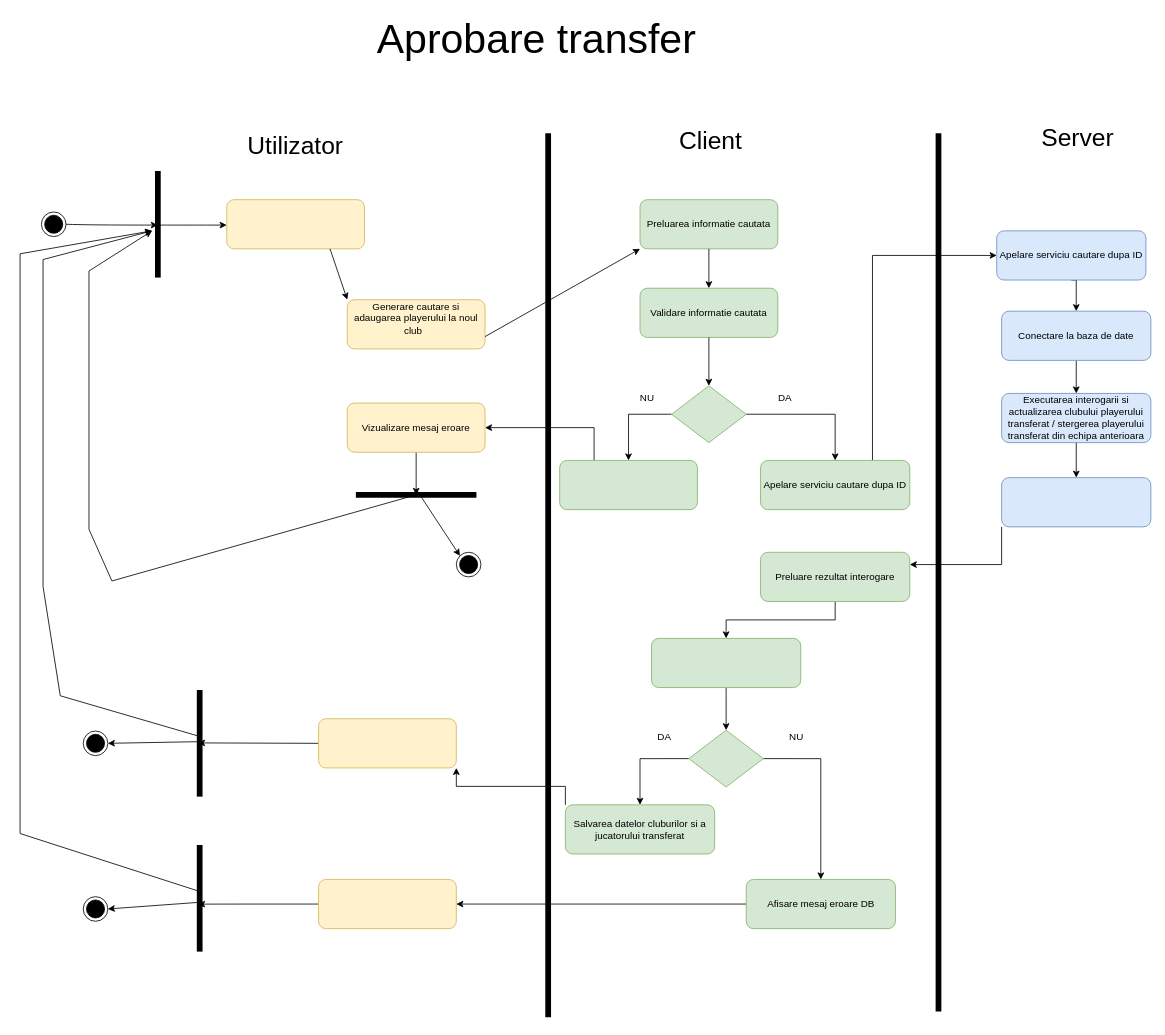
The diagram is 1165 pixels wide and 1035 high, and some of its shapes have lost their labels. The shapes that lost their labels are listed below. From the top down, each one's centre as x and y in pixels, then its label:
the point at 295,224: Introducere aprobare
the point at 628,485: Afisare mesaj eroare
the point at 1076,502: Deconectarea de la baza de date
the point at 726,663: Analiza rezultat
the point at 387,743: Vizualizare actualizare echipe si a noului club al jucatorului transferat
the point at 387,904: Vizualizare eroare DB
